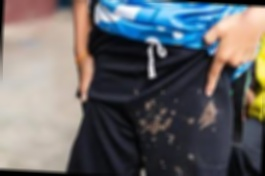earth: (141, 100, 176, 142), (195, 101, 219, 131)
